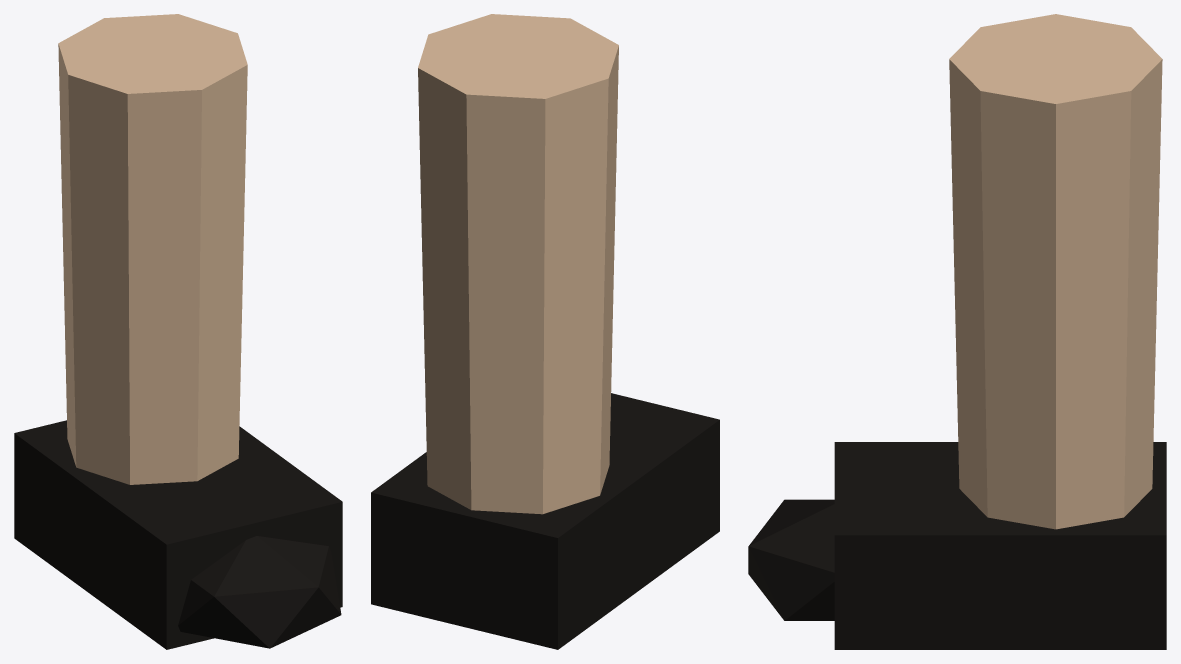
File: insan_k3k_bacak.glb
3 renders of one model, left to right at view 1: azimuth 30°, elevation 25°; view 2: azimuth 150°, elevation 25°; view 3: azimuth 270°, elevation 25°, orthographic. The views are drawn at different scales.
Visible parts, largest first — view 1: Cone; view 2: Cone; view 3: Cone.
Boxes of the visible parts, box(x1,y1,x2,y2) form: Cone: box(14, 14, 342, 649); Cone: box(371, 14, 719, 649); Cone: box(748, 14, 1166, 649).
Bounding box in the file's own units: 0.028 × 0.0784 × 0.0529.
